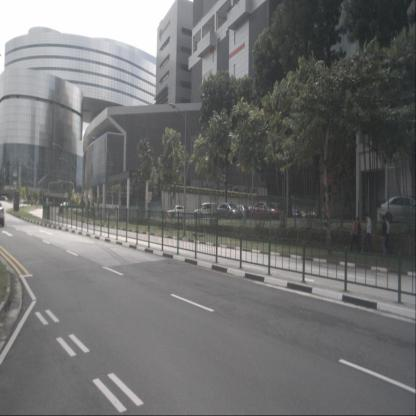human-pedestrian-adult: (348, 216, 361, 253), (380, 215, 388, 255), (364, 212, 372, 252), (355, 216, 362, 252), (384, 217, 390, 254)
vehicle-car: (379, 196, 415, 225), (249, 202, 284, 220), (216, 202, 243, 219), (194, 202, 218, 219), (166, 205, 188, 219), (232, 204, 250, 219), (274, 203, 292, 218), (287, 209, 301, 218), (305, 210, 318, 218), (296, 210, 308, 218), (0, 203, 4, 227), (60, 202, 70, 209), (27, 198, 35, 205)
